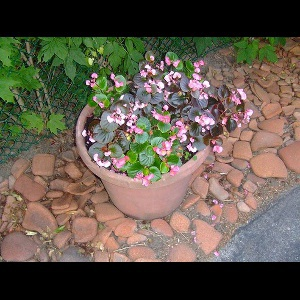flowerpot: (76, 79, 213, 221)
